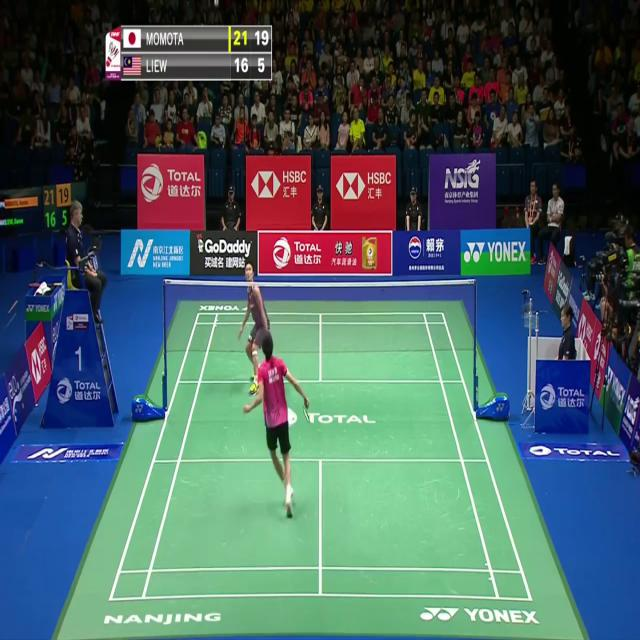Shuttlecock: (213, 0, 219, 10)
